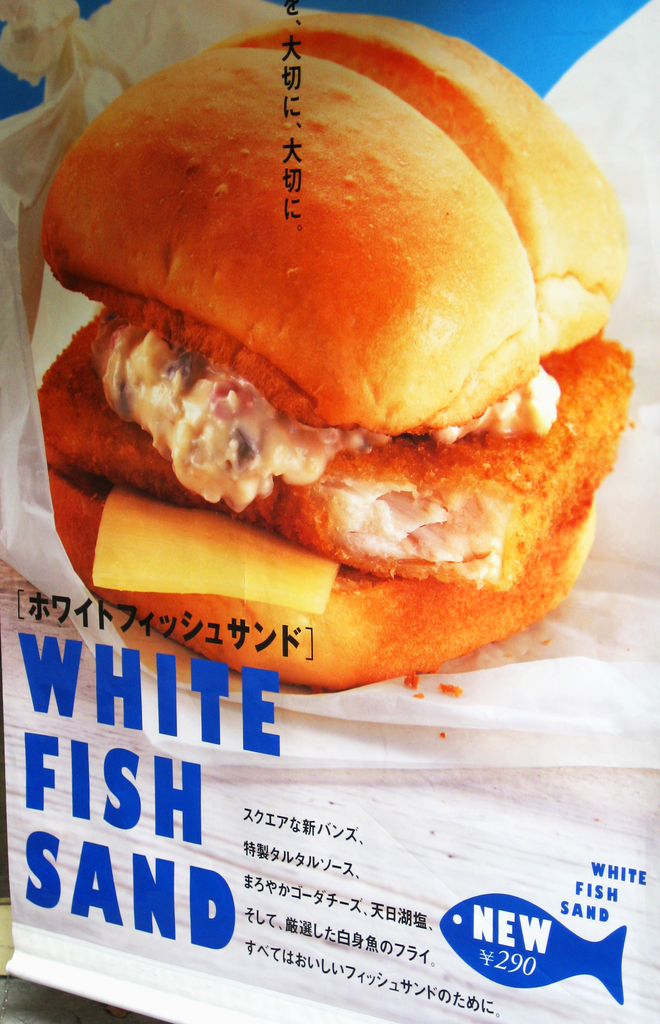Hamburger: (17, 9, 626, 681)
